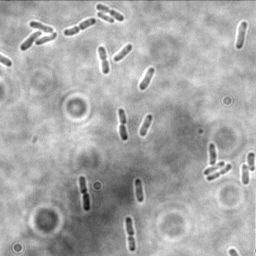Dividing: (61, 16, 97, 37), (95, 3, 126, 23), (77, 174, 92, 212), (205, 162, 232, 182), (125, 214, 137, 253), (97, 44, 111, 76), (118, 107, 129, 142), (28, 19, 55, 33)
Rod: (18, 29, 43, 52), (234, 19, 249, 51), (137, 67, 156, 92), (138, 112, 155, 138), (112, 43, 133, 63), (202, 160, 225, 176), (34, 32, 57, 46), (134, 177, 145, 204), (96, 10, 116, 24), (207, 141, 218, 166), (240, 163, 251, 186), (246, 151, 255, 173)
